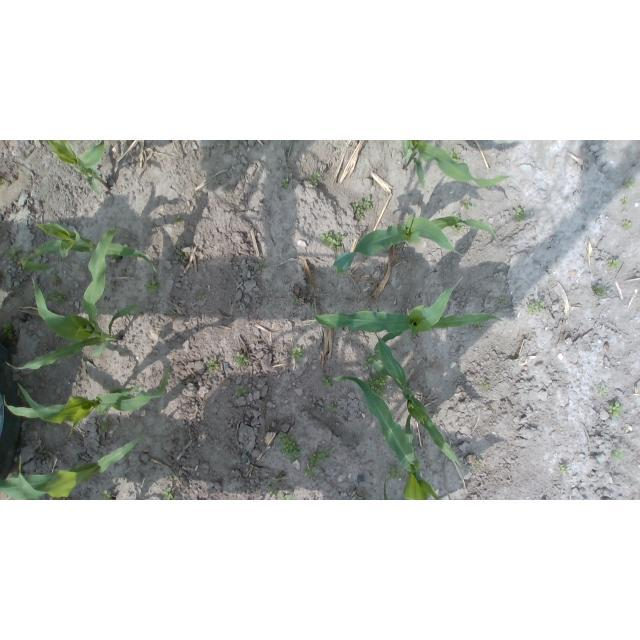Maize: (9, 224, 143, 371), (370, 332, 474, 477), (316, 277, 503, 353), (333, 375, 442, 500), (4, 366, 171, 434), (1, 434, 144, 500), (329, 210, 500, 256), (20, 222, 157, 272), (403, 140, 509, 190), (40, 140, 112, 196)
Weeds: (278, 432, 303, 464), (368, 370, 388, 399), (352, 195, 373, 220), (320, 230, 344, 250), (309, 446, 331, 467), (42, 290, 68, 307), (144, 277, 162, 295), (527, 299, 546, 314), (446, 148, 463, 164), (364, 350, 380, 367), (608, 400, 623, 417), (291, 347, 306, 362), (592, 284, 608, 298), (387, 465, 403, 479), (8, 246, 21, 263), (205, 357, 219, 372), (308, 171, 322, 186), (511, 207, 525, 221), (303, 465, 317, 479), (611, 446, 625, 460), (235, 353, 248, 367), (622, 178, 637, 190), (279, 178, 291, 193), (267, 486, 280, 499), (49, 272, 61, 286), (597, 383, 609, 397), (99, 416, 109, 432), (162, 488, 174, 501), (234, 384, 247, 396), (451, 223, 465, 234), (608, 259, 621, 270), (320, 376, 332, 387), (463, 199, 472, 213), (357, 492, 371, 501), (101, 490, 111, 500), (622, 221, 632, 230), (177, 251, 187, 260), (560, 464, 569, 474), (327, 404, 337, 413), (258, 261, 267, 271), (174, 215, 183, 224), (476, 459, 485, 468), (621, 197, 630, 205), (281, 492, 290, 500), (497, 296, 506, 303), (292, 296, 299, 305), (199, 290, 206, 298), (477, 324, 484, 332), (483, 380, 490, 388), (434, 409, 440, 418), (277, 477, 286, 482), (455, 214, 461, 220), (124, 244, 129, 248), (1, 179, 5, 184)
